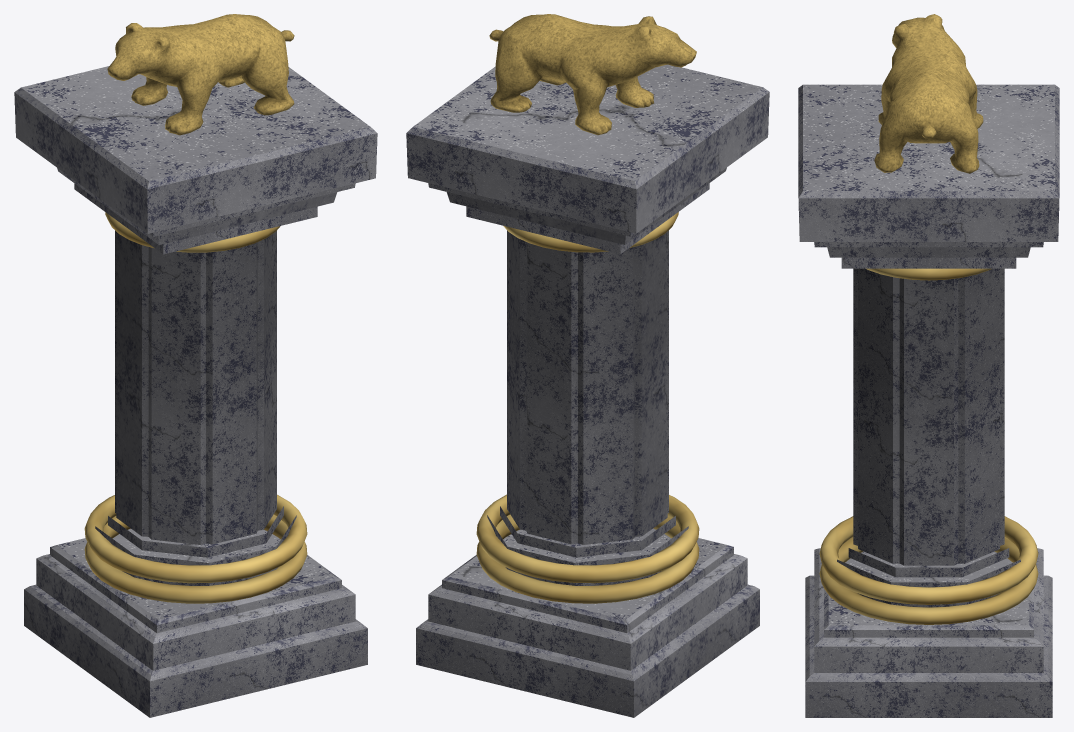
File: mm6_deco_pedestal_bear.glb
3 views of the same model, side by side, from view 1: azimuth 30°, elevation 25°; view 2: azimuth 150°, elevation 25°; view 3: azimuth 270°, elevation 25° (orthographic).
Visible parts, largest first — view 1: StatuetteBear; view 2: StatuetteBear; view 3: StatuetteBear.
Part boxes in pixels (<box>): StatuetteBear: <box>14,14,377,717</box>; StatuetteBear: <box>406,14,769,717</box>; StatuetteBear: <box>798,14,1059,717</box>.
Bounding box in the file's own units: 0.8225 × 2.16 × 0.8225.
Materials: 3 (3 with a texture image).
